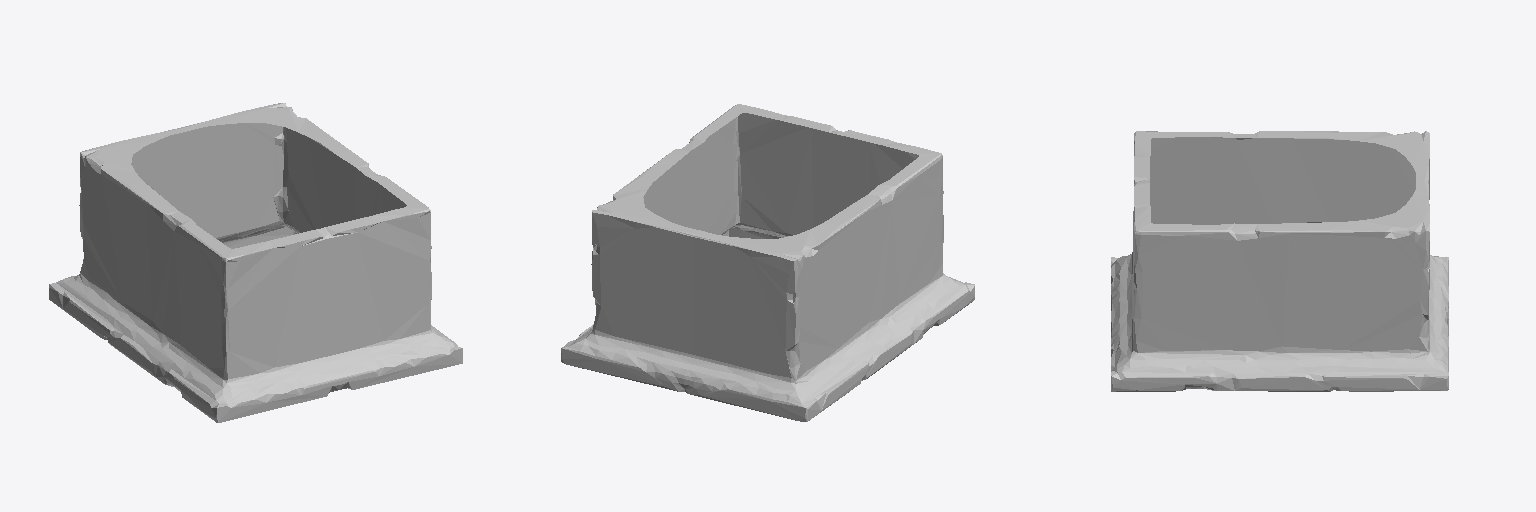
3 renders of one model, left to right at view 1: azimuth 30°, elevation 25°; view 2: azimuth 150°, elevation 25°; view 3: azimuth 270°, elevation 25°, orthographic.
Parts seen in each view (by area): view 1: BaseStatue_Bottom_low; view 2: BaseStatue_Bottom_low; view 3: BaseStatue_Bottom_low.
Boxes of the visible parts, <box> form: BaseStatue_Bottom_low: <box>49,103,462,422</box>; BaseStatue_Bottom_low: <box>561,104,974,421</box>; BaseStatue_Bottom_low: <box>1111,131,1448,391</box>.
Size of the model in its own units: 1.01 by 0.594 by 1.2.